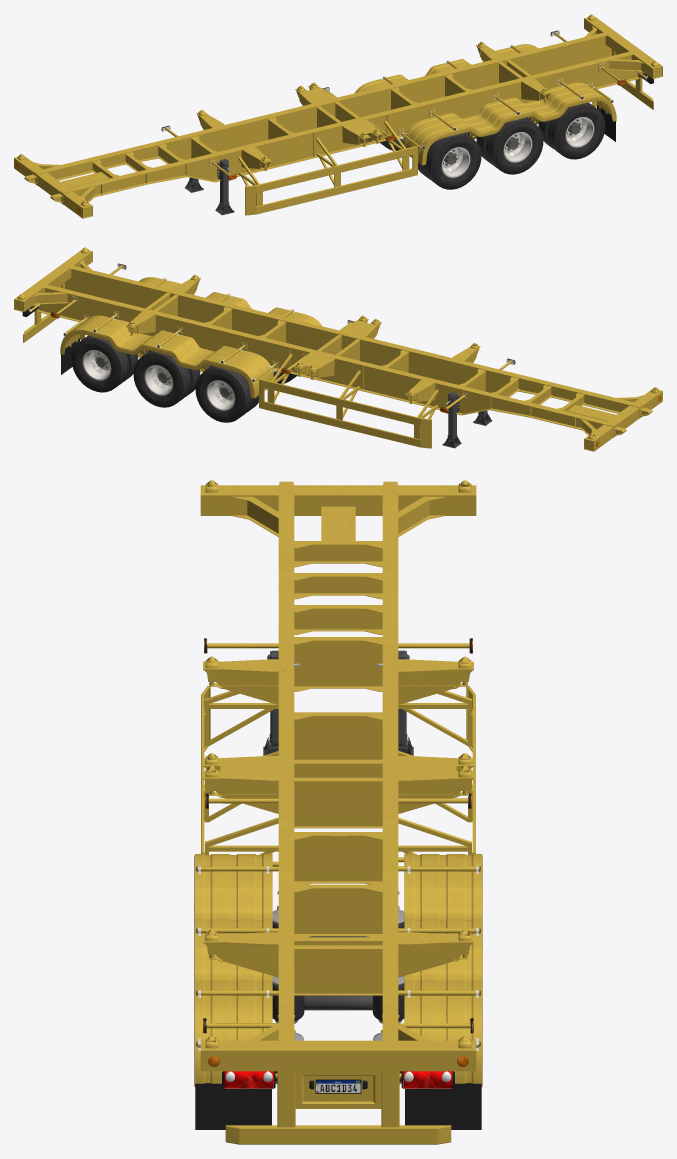
The model's file is trailer.glb.
3 views of the same model, one above another, from view 1: azimuth 30°, elevation 25°; view 2: azimuth 150°, elevation 25°; view 3: azimuth 270°, elevation 25° (orthographic). The views are drawn at different scales.
Visible parts, largest first — view 1: container_trailer_7, Plane.028_1, Plane.029_2, Plane.014_0; view 2: container_trailer_7, Plane.034_3, Plane.023_6, Plane.026_5; view 3: container_trailer_7, Plane.004_4.
Boxes of the visible parts, box(x1,y1,x2,y2) form: container_trailer_7: box(14, 14, 662, 218); Plane.028_1: box(476, 117, 543, 174); Plane.029_2: box(538, 102, 605, 159); Plane.014_0: box(418, 133, 481, 189); container_trailer_7: box(14, 247, 662, 451); Plane.034_3: box(133, 350, 200, 407); Plane.023_6: box(71, 335, 138, 392); Plane.026_5: box(195, 366, 258, 422); container_trailer_7: box(194, 480, 482, 1144); Plane.004_4: box(272, 891, 404, 1083).
Bounding box in the file's own units: 12.48 × 1.56 × 2.64.
24 materials, 9 textured.
